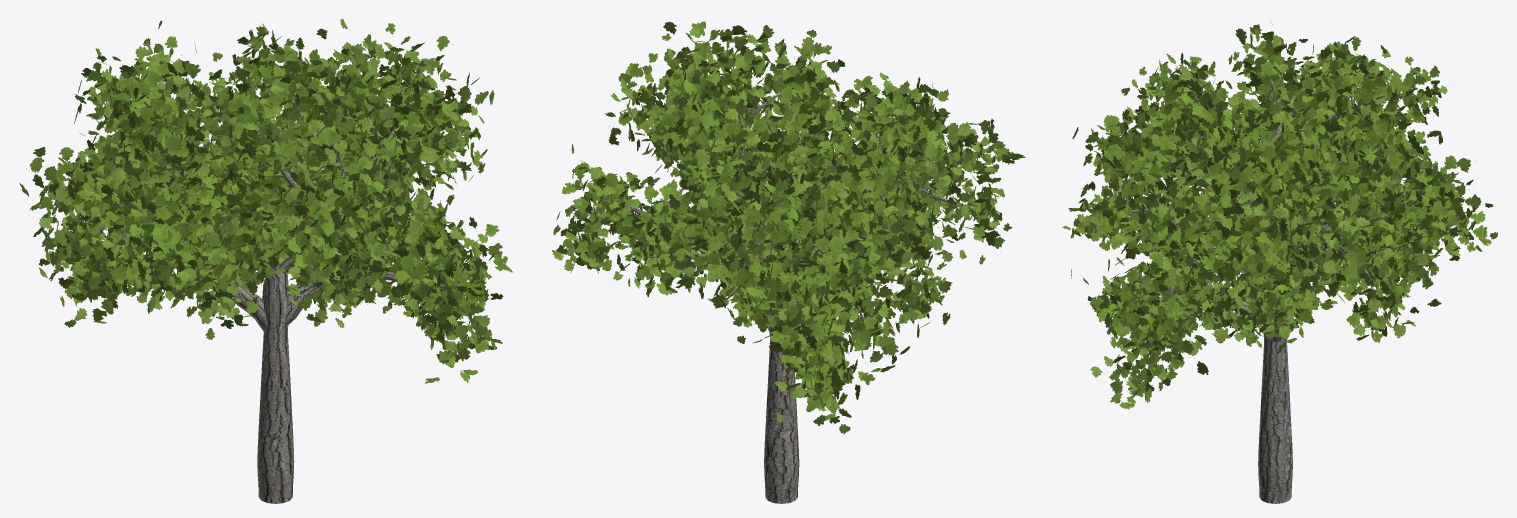
The model's file is oak_easytree_v014.glb.
3 views of the same model, side by side, from view 1: azimuth 30°, elevation 25°; view 2: azimuth 150°, elevation 25°; view 3: azimuth 270°, elevation 25° (orthographic). The views are drawn at different scales.
Parts seen in each view (by area): view 1: Oak foliage cards, Oak_EasyTree_V014_Proof; view 2: Oak foliage cards, Oak_EasyTree_V014_Proof; view 3: Oak foliage cards, Oak_EasyTree_V014_Proof.
Boxes of the visible parts, <box> form: Oak foliage cards: <box>19,18,513,383</box>; Oak_EasyTree_V014_Proof: <box>74,73,463,503</box>; Oak foliage cards: <box>552,21,1025,434</box>; Oak_EasyTree_V014_Proof: <box>595,73,971,503</box>; Oak foliage cards: <box>1062,20,1497,409</box>; Oak_EasyTree_V014_Proof: <box>1113,79,1453,503</box>.
Size of the model in its own units: 7.2 by 7.98 by 7.26.
Materials: 2 (2 with a texture image).
